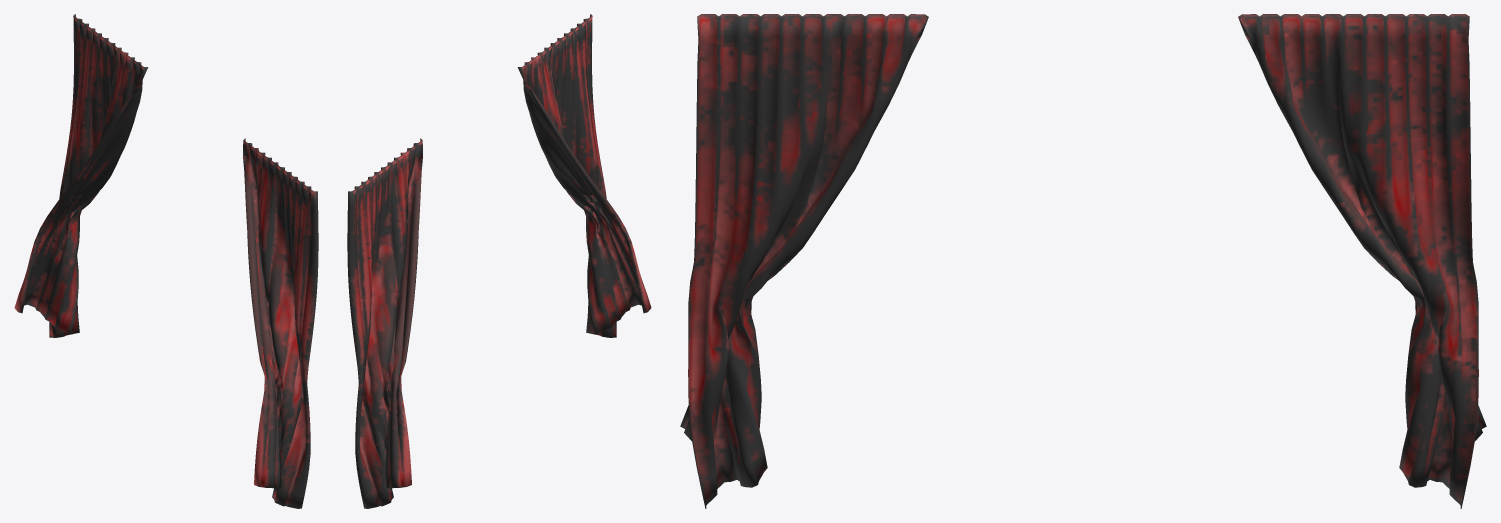
File: Cortinas.fbx
The picture shows the model from 3 angles, left to right: view 1: azimuth 30°, elevation 25°; view 2: azimuth 150°, elevation 25°; view 3: azimuth 270°, elevation 25°; orthographic projection. The views are drawn at different scales.
Parts seen in each view (by area): view 1: cortinas_low; view 2: cortinas_low; view 3: cortinas_low.
Part boxes in pixels (x1=…): cortinas_low: x1=14, y1=14, x2=318, y2=508; cortinas_low: x1=347, y1=14, x2=651, y2=508; cortinas_low: x1=680, y1=14, x2=1486, y2=508.
Size of the model in its own units: 188 by 873 by 1268.
